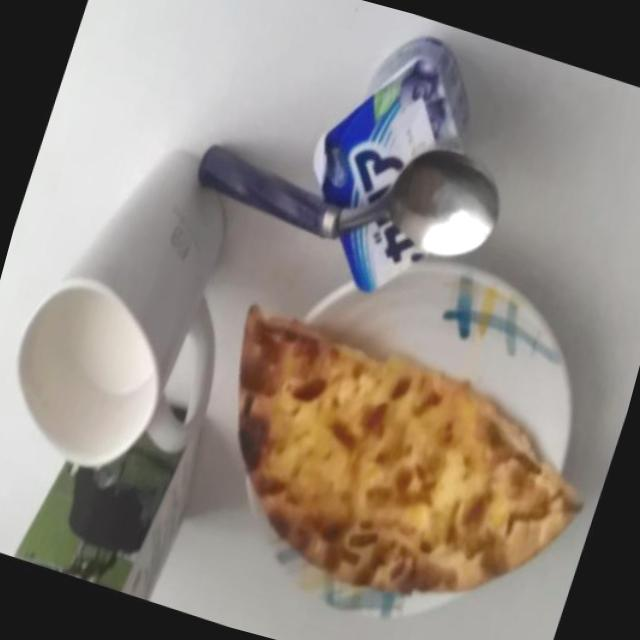Pizza: (149, 283, 610, 640)
